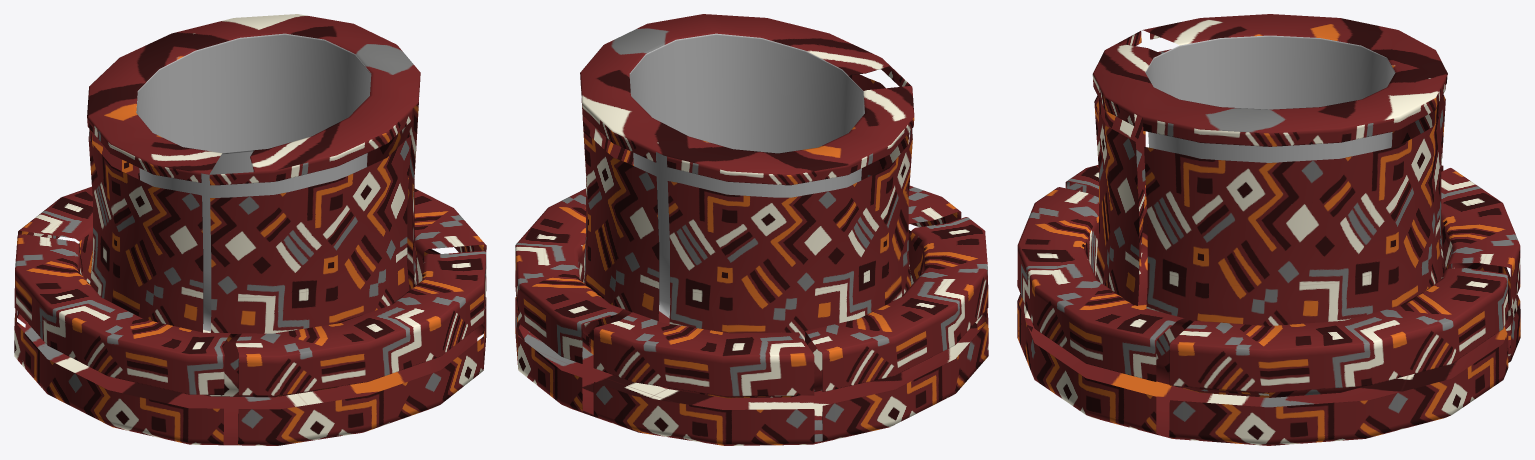
File: Mortar.fbx
The picture shows the model from 3 angles, left to right: view 1: azimuth 30°, elevation 25°; view 2: azimuth 150°, elevation 25°; view 3: azimuth 270°, elevation 25°; orthographic projection. The views are drawn at different scales.
Parts seen in each view (by area): view 1: grinder; view 2: grinder; view 3: grinder.
Boxes of the visible parts, bbox=[...] form: grinder: bbox=[14, 14, 486, 445]; grinder: bbox=[515, 14, 988, 445]; grinder: bbox=[1017, 14, 1520, 445].
Bounding box in the file's own units: 387 × 250 × 387.
Materials: 2 (1 with a texture image).
